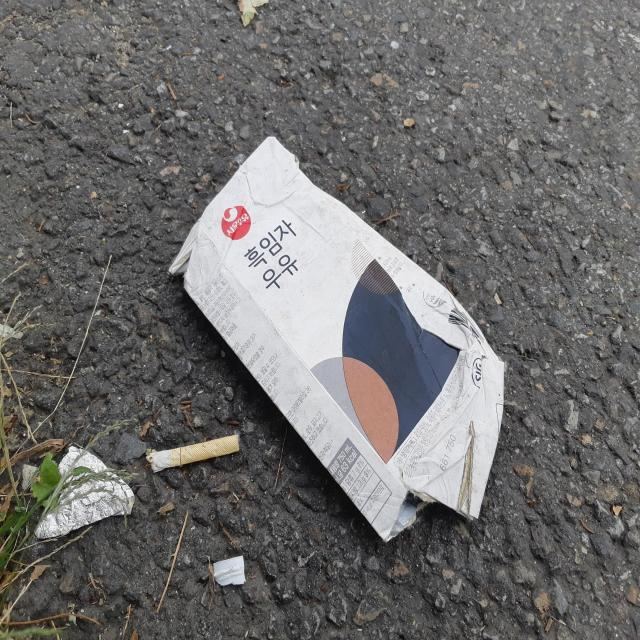paperpack: (169, 137, 505, 540)
